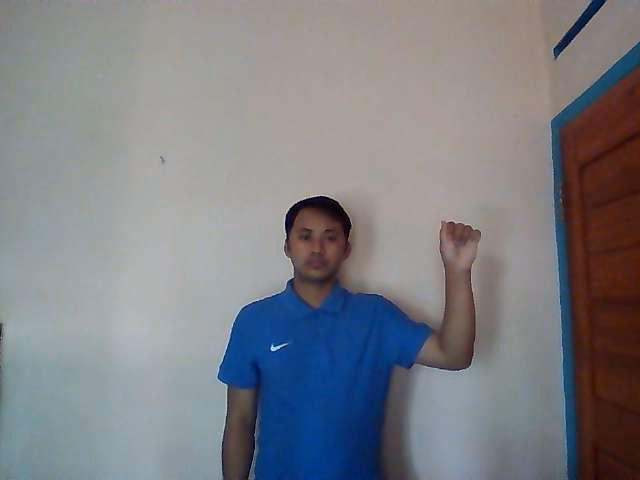A: (438, 219, 482, 267)
